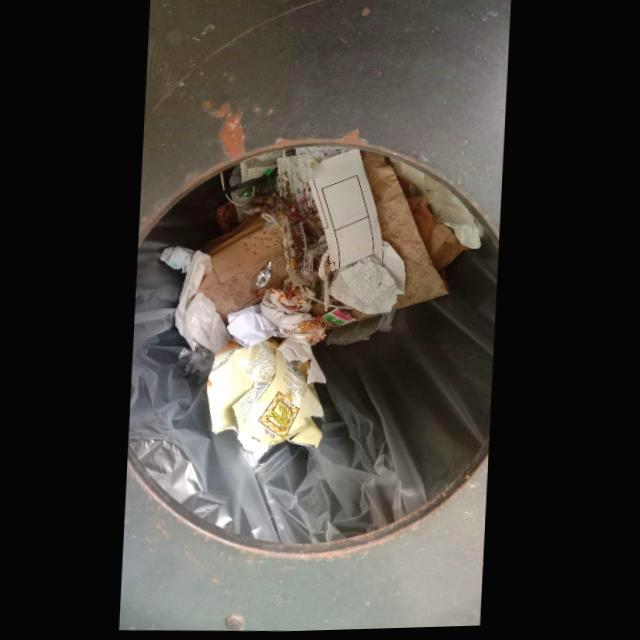food_wrapper: (208, 340, 326, 458)
paper: (308, 153, 451, 333), (309, 150, 407, 316), (192, 218, 290, 328), (176, 251, 234, 355), (227, 304, 288, 350)
